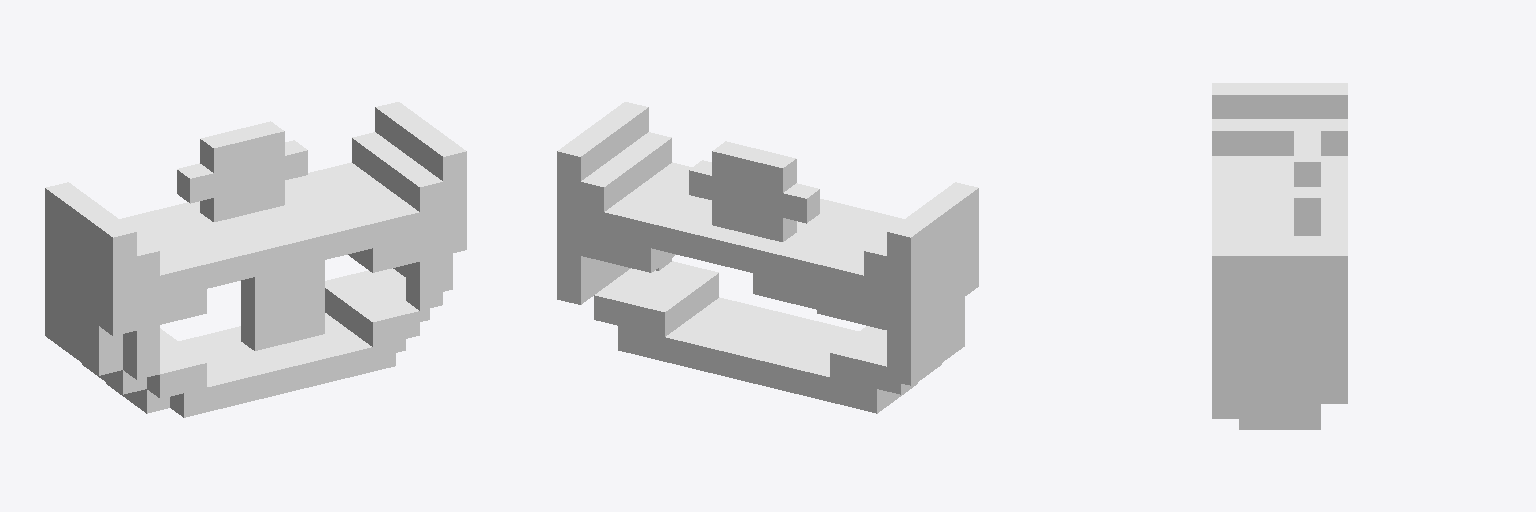
The model's file is coxis.obj.
3 renders of one model, left to right at view 1: azimuth 30°, elevation 25°; view 2: azimuth 150°, elevation 25°; view 3: azimuth 270°, elevation 25°, orthographic.
Parts seen in each view (by area): view 1: object 1; view 2: object 1; view 3: object 1.
Boxes of the visible parts, <box> form: object 1: <box>45,102,466,417</box>; object 1: <box>557,102,978,413</box>; object 1: <box>1212,83,1347,429</box>.
Size of the model in its own units: 1.5 by 0.9 by 0.5.